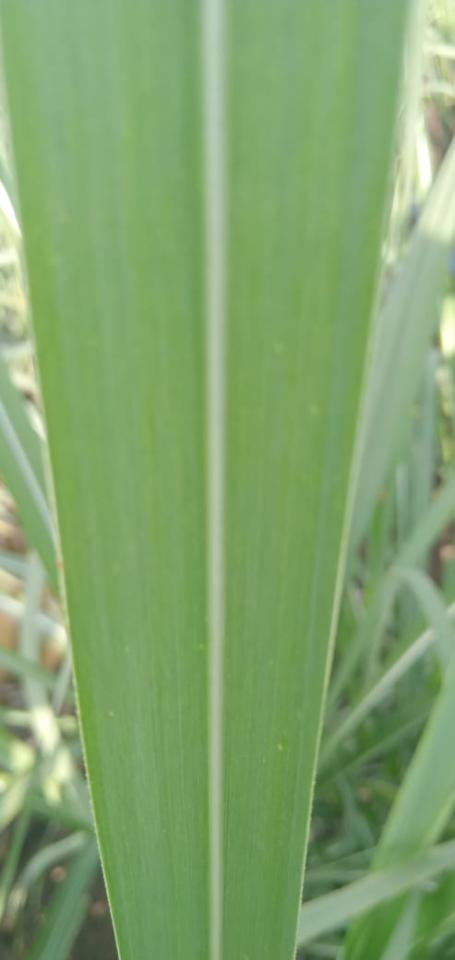Healthy: (3, 0, 209, 959), (220, 1, 413, 959)
